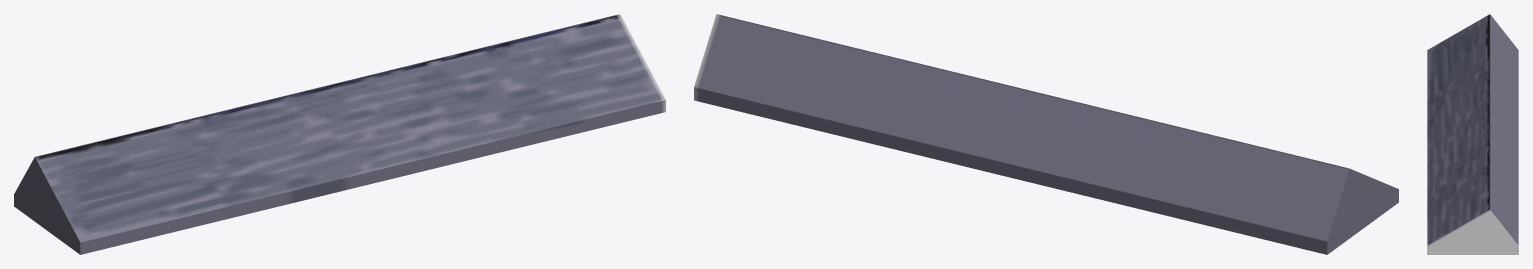
Rendered from Stairs.fbx.
The picture shows the model from 3 angles, left to right: view 1: azimuth 30°, elevation 25°; view 2: azimuth 150°, elevation 25°; view 3: azimuth 270°, elevation 25°; orthographic projection. The views are drawn at different scales.
Parts seen in each view (by area): view 1: Cube; view 2: Cube; view 3: Cube.
Part boxes in pixels (box(x1,y1,x2,y2)): Cube: box(14, 14, 665, 254); Cube: box(694, 14, 1398, 254); Cube: box(1427, 14, 1518, 254).
Size of the model in its own units: 1020 by 108 by 200.
Materials: 1 (1 with a texture image).
